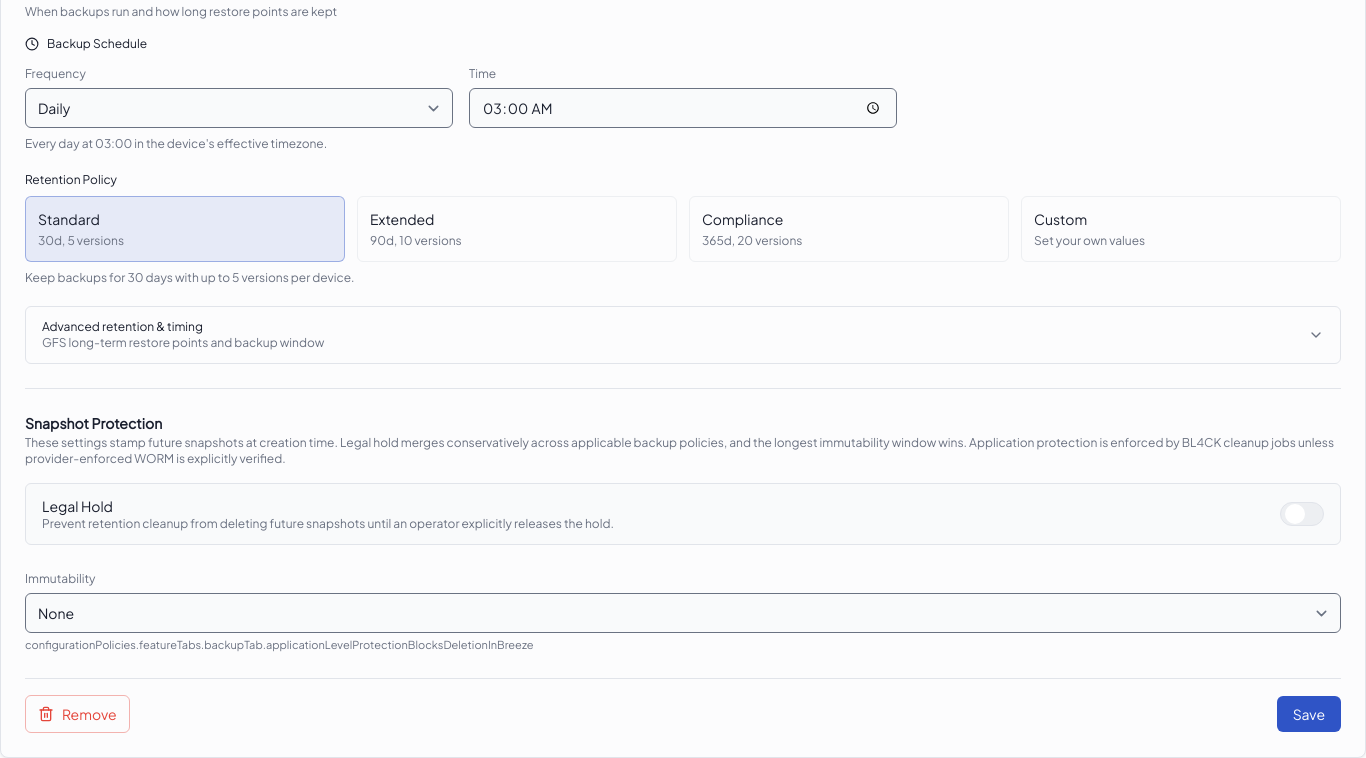
Test case: BackupTab › blocks file-mode save with no backup paths and shows a friendly error
(page scrolled)
Click the button "Save": (1309, 714) x1=1277 y1=696 x2=1341 y2=732
(page scrolled)
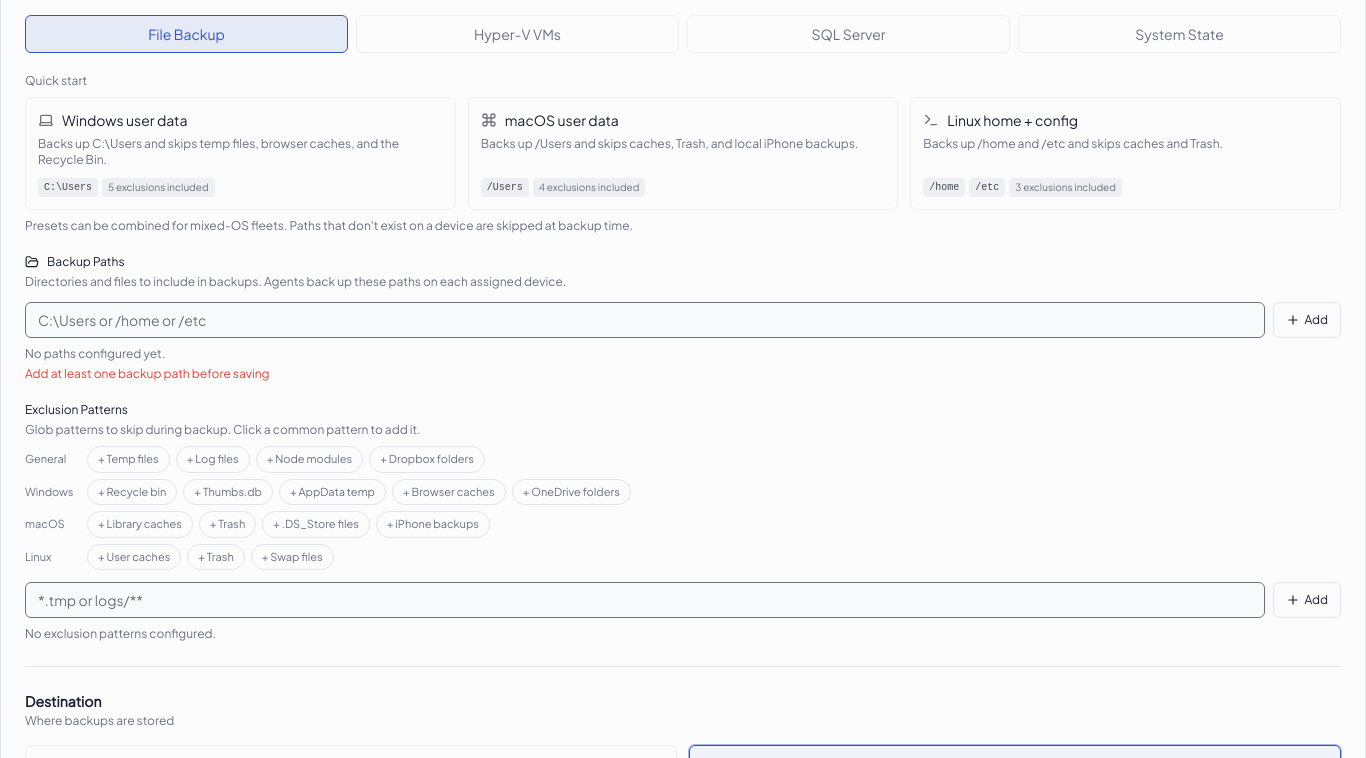
Check: the text "Add at least one backup path before saving" is shown, box x1=25 y1=366 x2=270 y2=381
